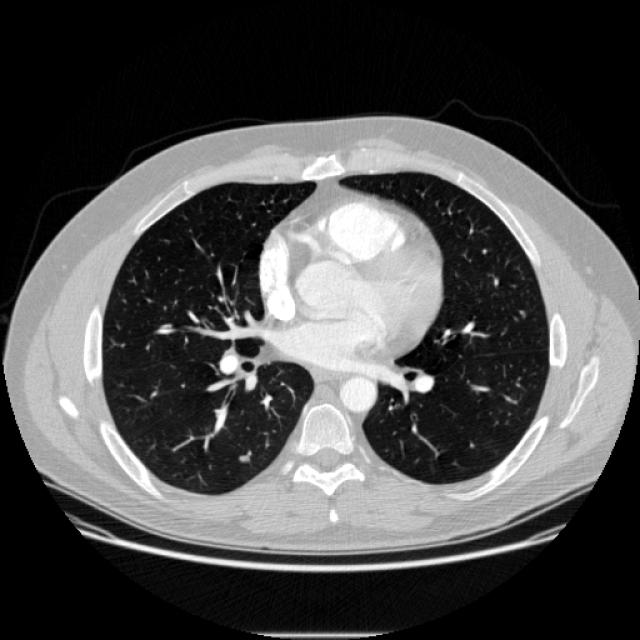nodule: (234, 448, 254, 468)
